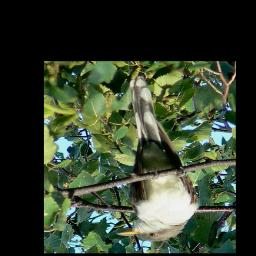Cuckoo: (116, 75, 198, 243)
